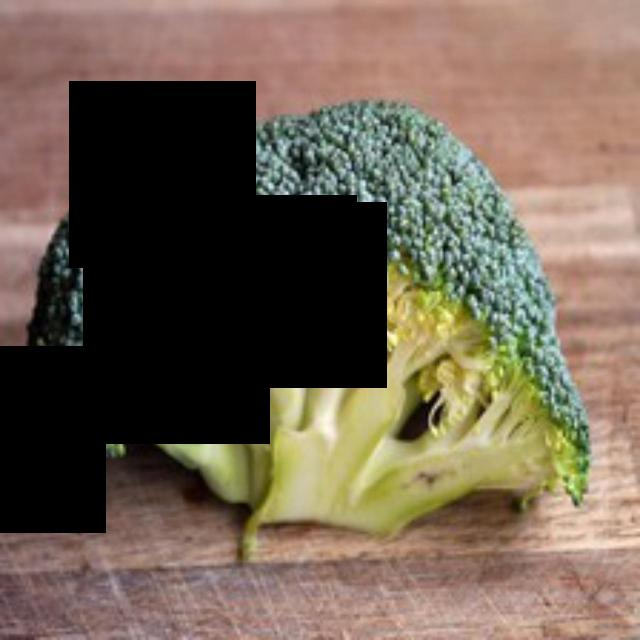broccoli: (38, 93, 602, 569)
